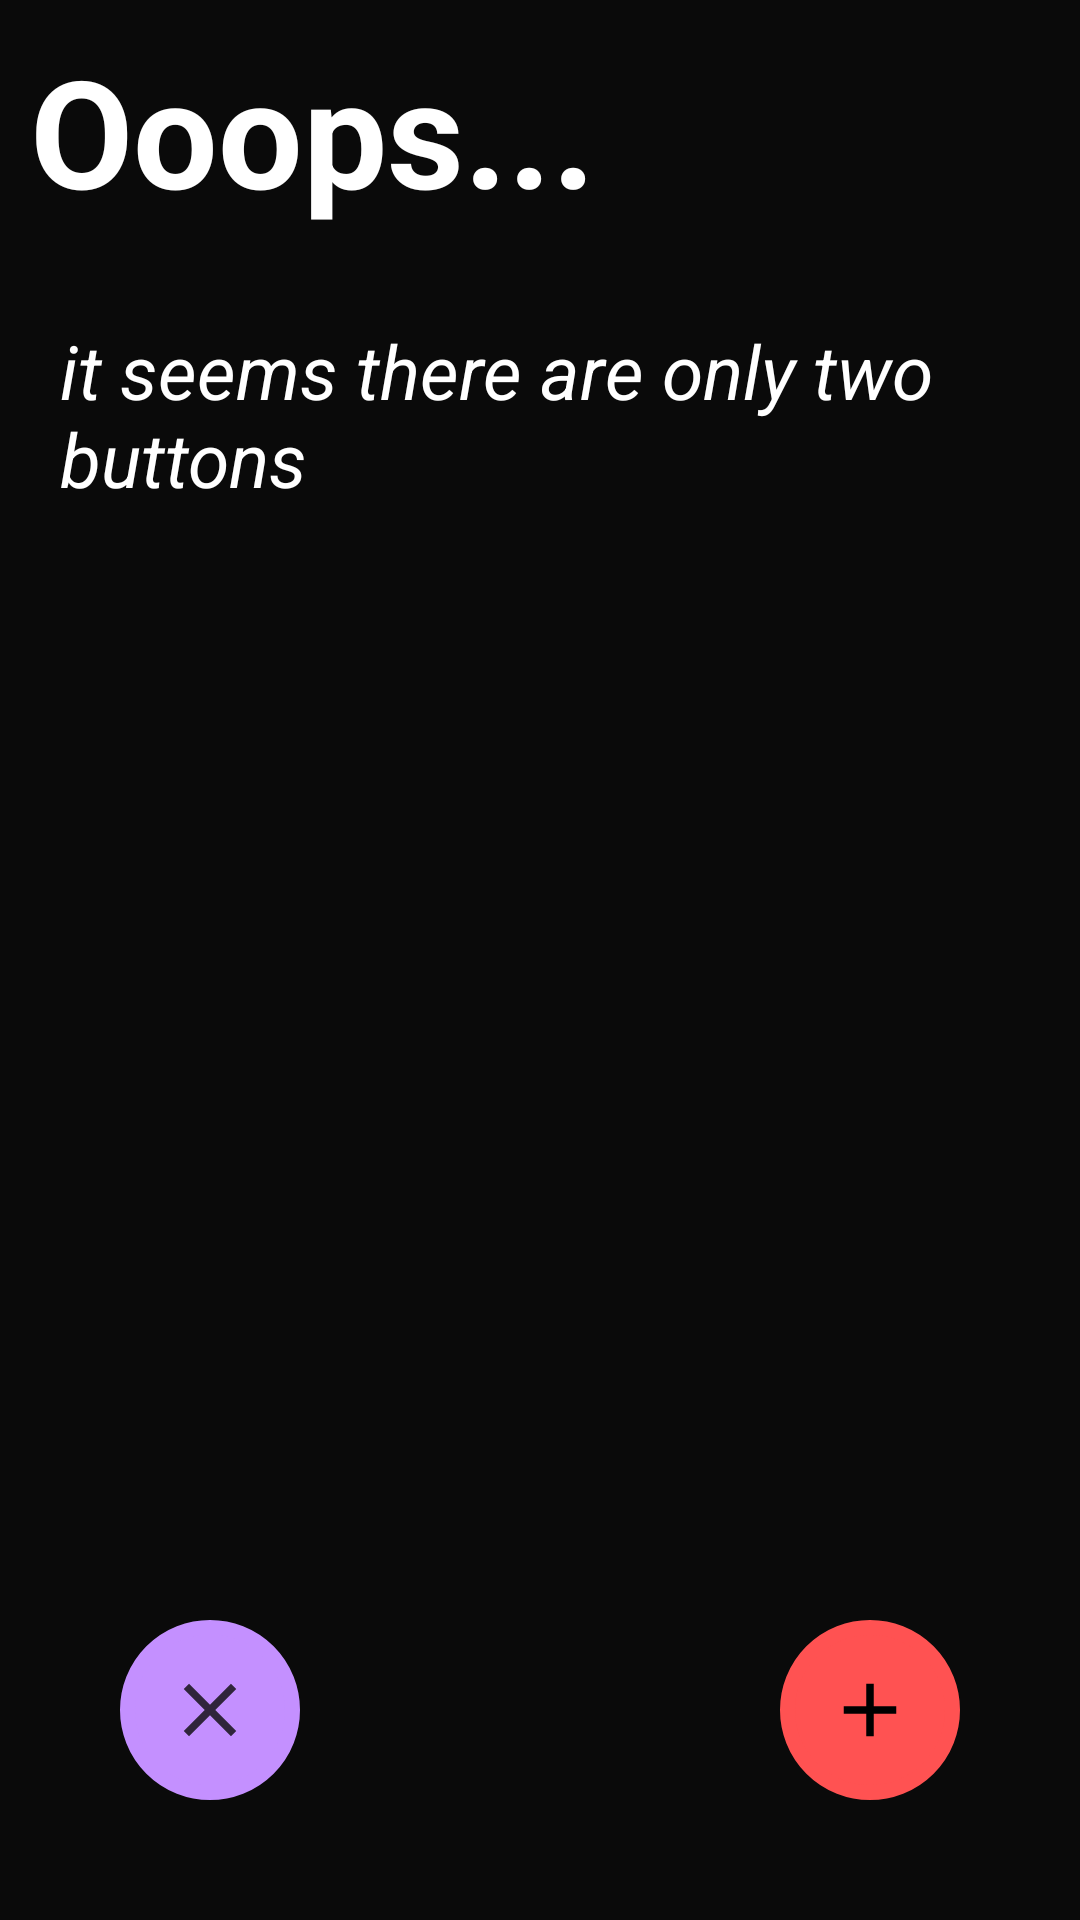

Icons on this 1080×1920 Android screen, each with its box as bbox=(x1, y1, x2, y2):
cancel: bbox=(120, 1620, 300, 1800)
plus: bbox=(780, 1620, 960, 1800)
